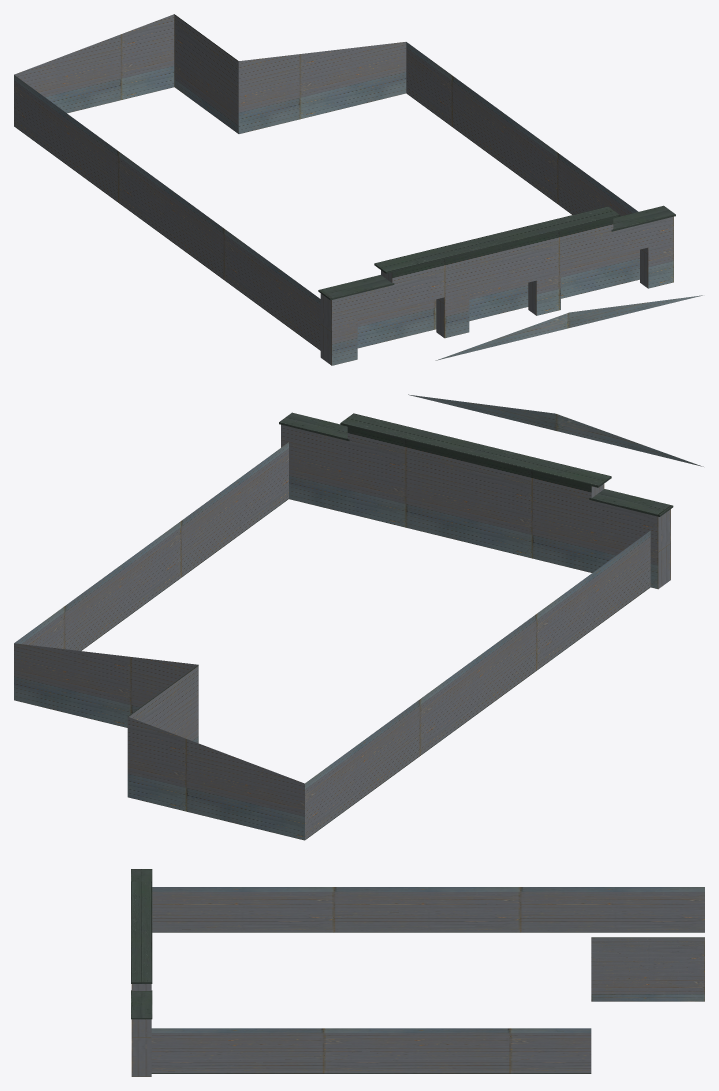
The model's file is rural_storesmall_2_rural_walltrim_1_0_lev2.glb.
3 renders of one model, top to bottom at view 1: azimuth 30°, elevation 25°; view 2: azimuth 150°, elevation 25°; view 3: azimuth 270°, elevation 25°, orthographic. The views are drawn at different scales.
Visible parts, largest first — view 1: rural_storesmall_2_rural_walltrim_1_0_lev2; view 2: rural_storesmall_2_rural_walltrim_1_0_lev2; view 3: rural_storesmall_2_rural_walltrim_1_0_lev2.
Part boxes in pixels (bbox=[...]): rural_storesmall_2_rural_walltrim_1_0_lev2: bbox=[14, 14, 702, 365]; rural_storesmall_2_rural_walltrim_1_0_lev2: bbox=[14, 394, 703, 840]; rural_storesmall_2_rural_walltrim_1_0_lev2: bbox=[131, 869, 704, 1076].
Bounding box in the file's own units: 7.48 × 1.67 × 14.69.
1 material, 1 textured.
